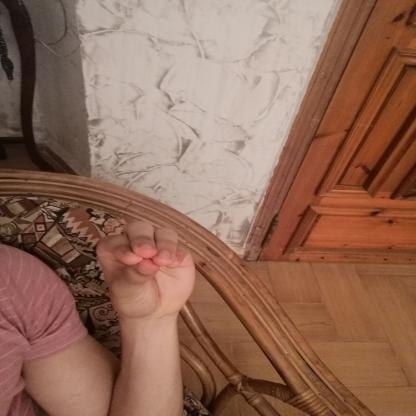HA: (78, 212, 215, 328)
